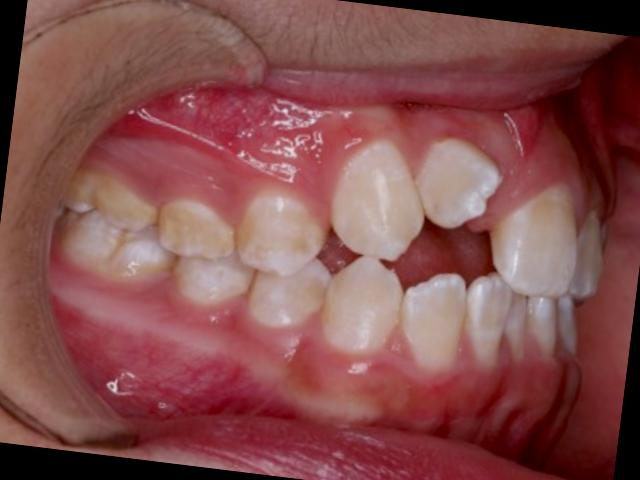canine class II 3/4: (238, 120, 426, 371)
molar class I: (50, 163, 186, 292)
